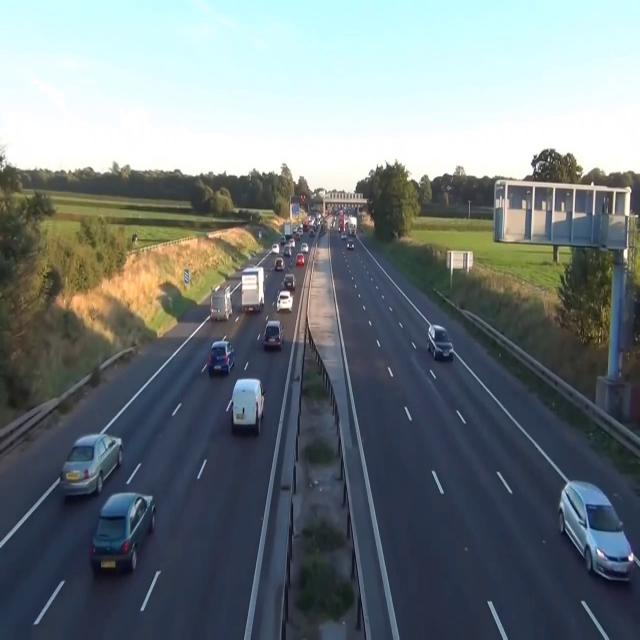belum terisi: (551, 465, 640, 597), (84, 476, 164, 588), (54, 428, 128, 501), (229, 372, 268, 441), (424, 318, 458, 372), (205, 335, 242, 382), (237, 266, 268, 318), (210, 282, 235, 322), (260, 317, 285, 353), (276, 286, 297, 314)
